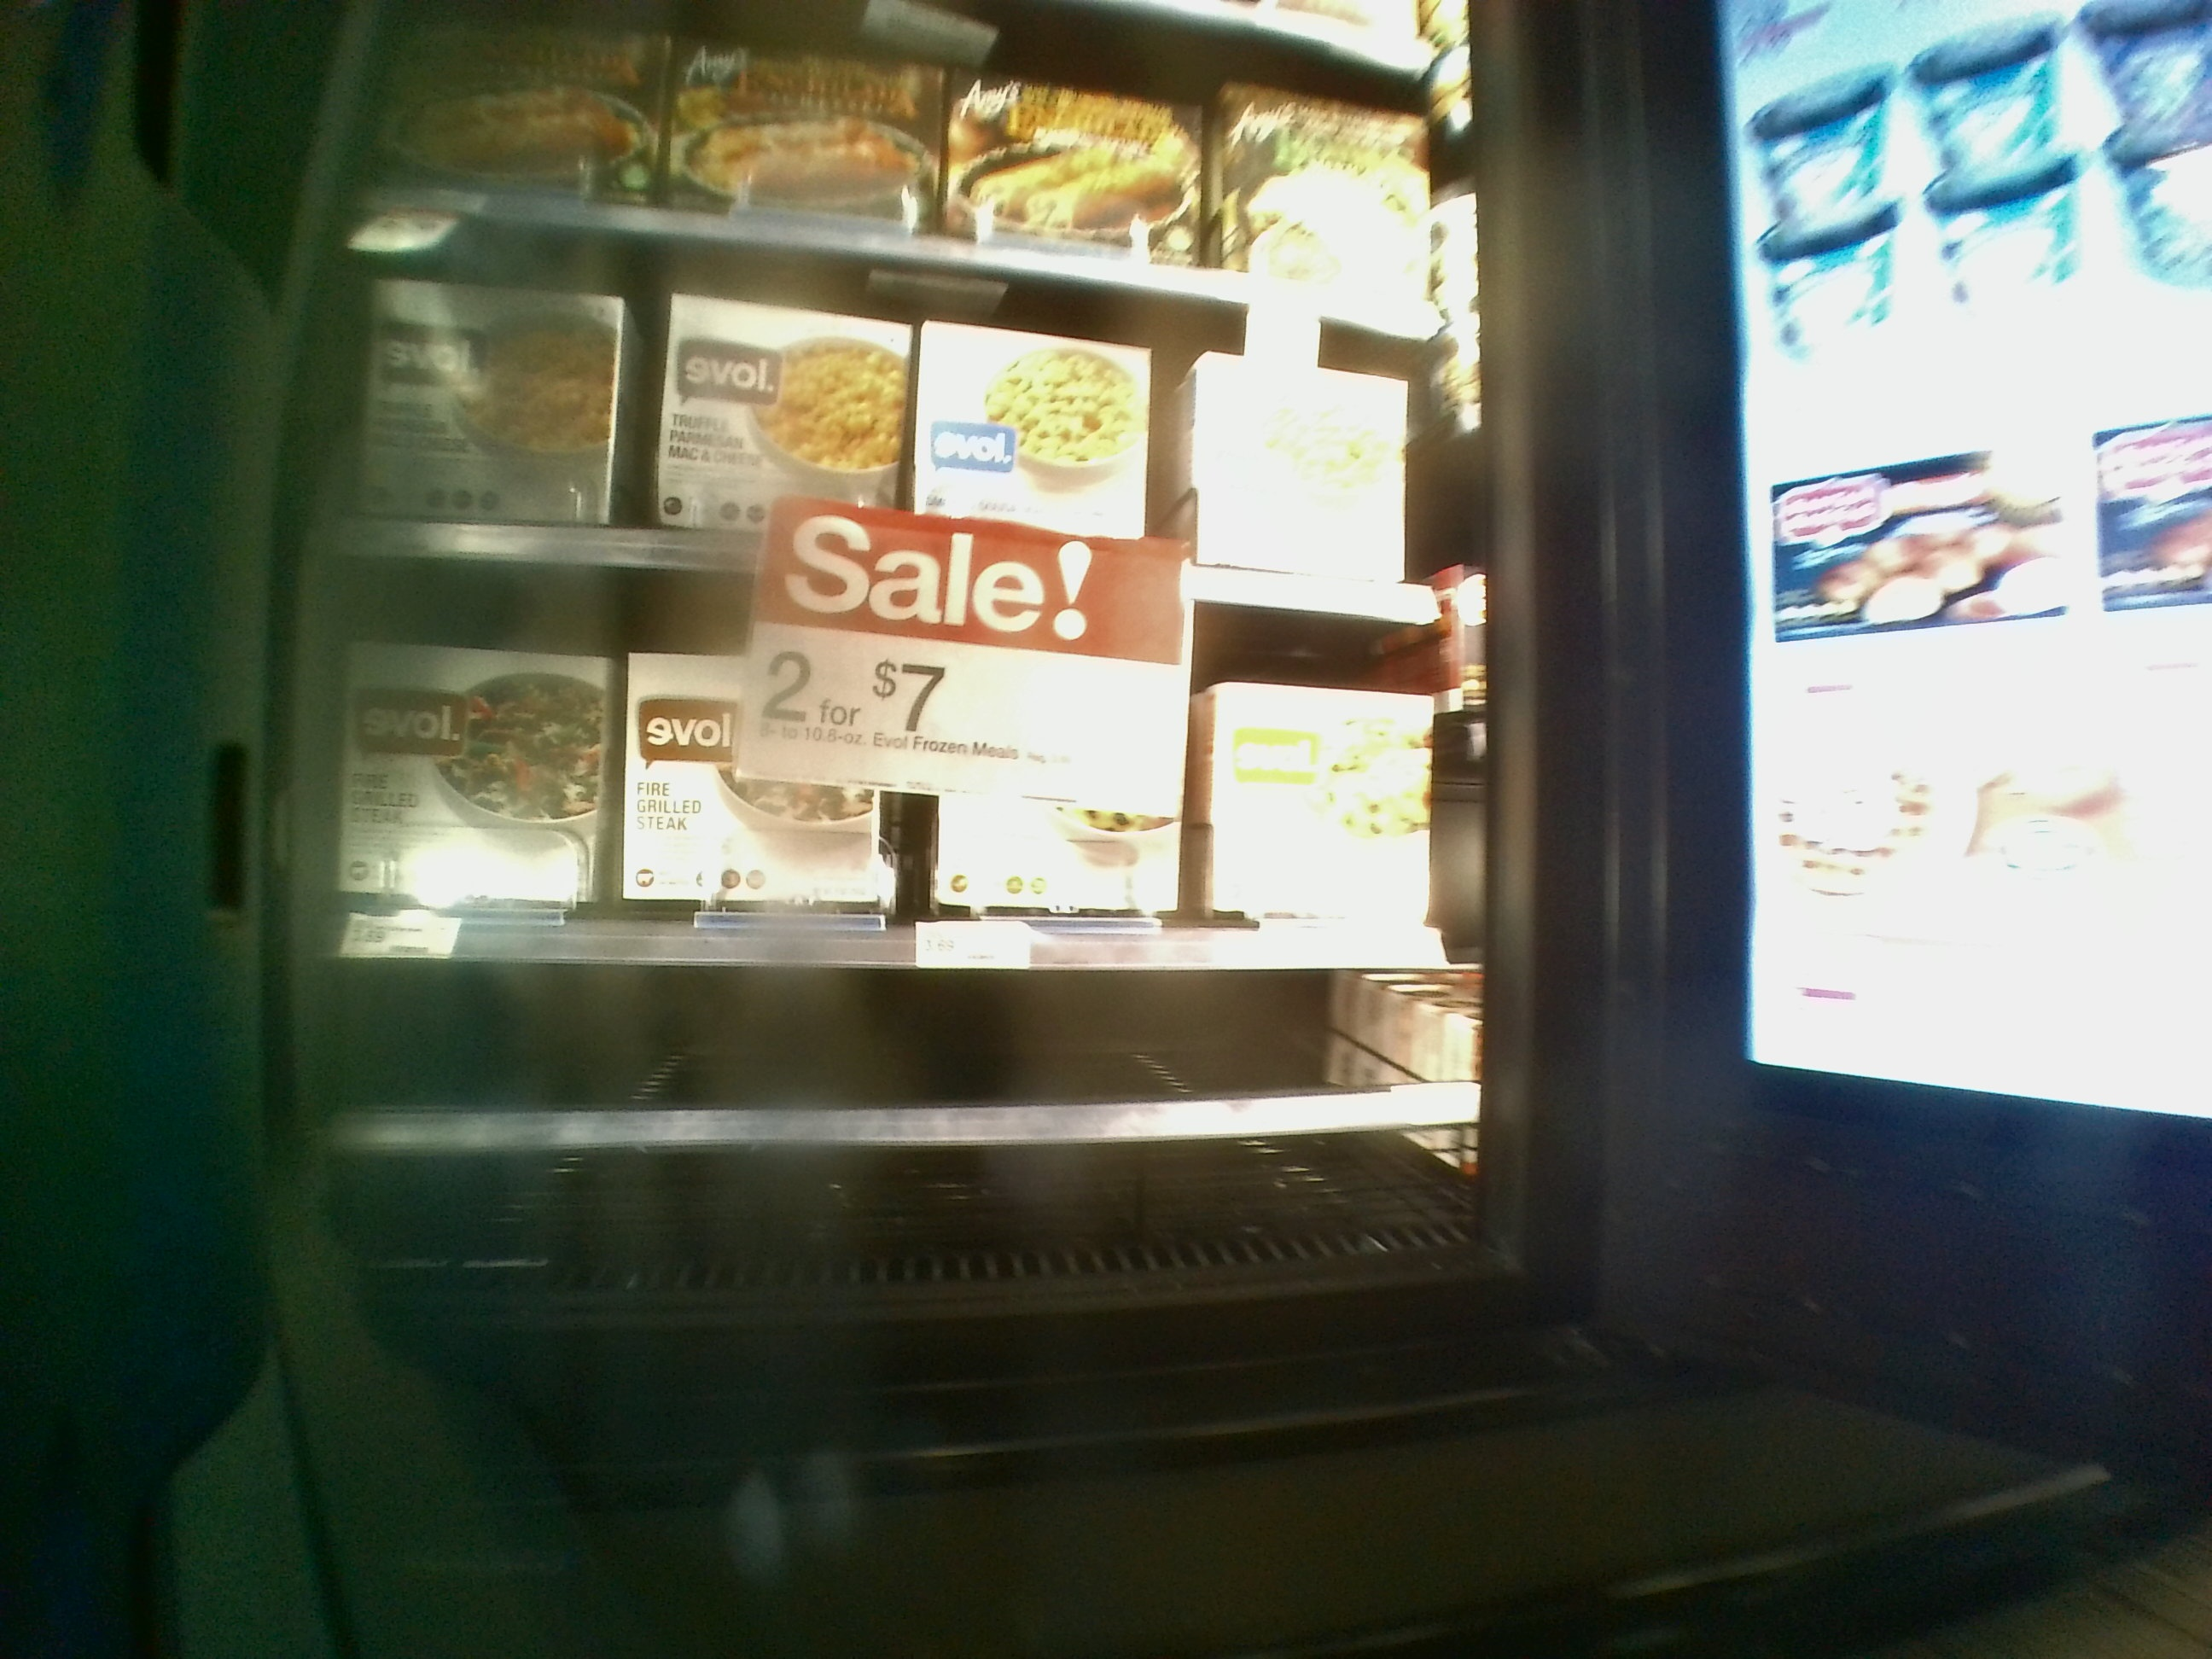shelf: (324, 265, 1456, 620), (334, 615, 1470, 964), (352, 965, 1482, 1281)
